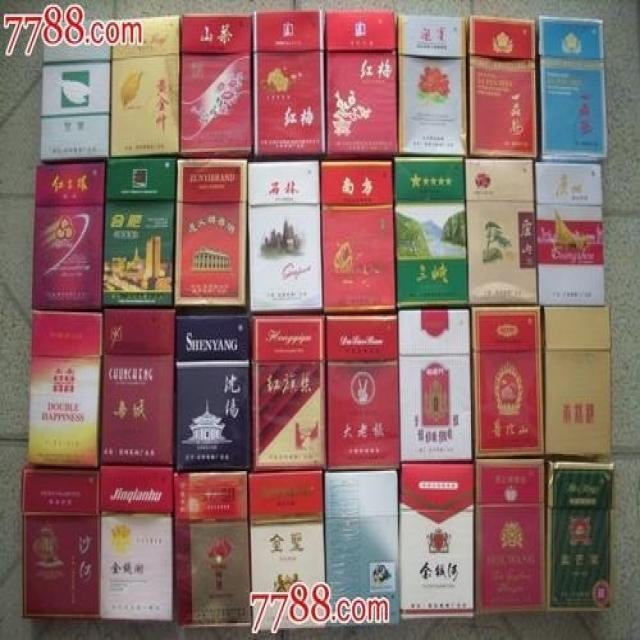box: (248, 471, 326, 631), (174, 471, 253, 628), (324, 469, 402, 628), (175, 311, 252, 471), (22, 466, 101, 621), (100, 305, 175, 468), (399, 463, 476, 620), (325, 312, 401, 471), (251, 314, 326, 473), (247, 160, 324, 314), (28, 311, 102, 471), (99, 466, 175, 621), (319, 162, 396, 314), (470, 305, 545, 459), (399, 309, 474, 463), (393, 159, 468, 311), (474, 459, 547, 614), (324, 10, 398, 162), (32, 162, 106, 311), (102, 157, 175, 307), (175, 159, 247, 311), (253, 9, 325, 160), (541, 304, 611, 459), (465, 159, 538, 307), (180, 15, 252, 159), (534, 162, 605, 307), (538, 17, 608, 164), (397, 15, 468, 159), (110, 15, 180, 159), (547, 459, 613, 611), (468, 17, 538, 160), (40, 46, 113, 162)
